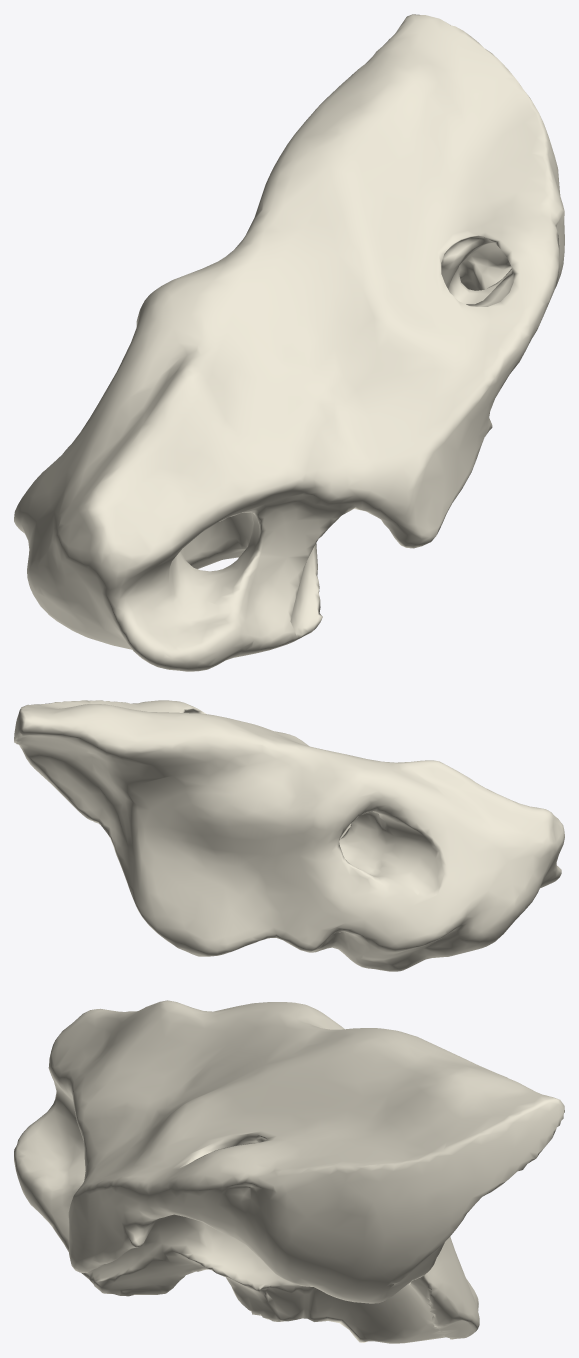
File: fma55428_mm1063.glb
3 views of the same model, one above another, from view 1: azimuth 30°, elevation 25°; view 2: azimuth 150°, elevation 25°; view 3: azimuth 270°, elevation 25° (orthographic). The views are drawn at different scales.
Visible parts, largest first — view 1: FMA55428_MM1063; view 2: FMA55428_MM1063; view 3: FMA55428_MM1063.
Part boxes in pixels (left/top/right/bottom): FMA55428_MM1063: left=14, top=14, right=564, bottom=671; FMA55428_MM1063: left=14, top=700, right=564, bottom=971; FMA55428_MM1063: left=14, top=1000, right=564, bottom=1343.
Size of the model in its own units: 0.0458 by 0.0266 by 0.0356.
